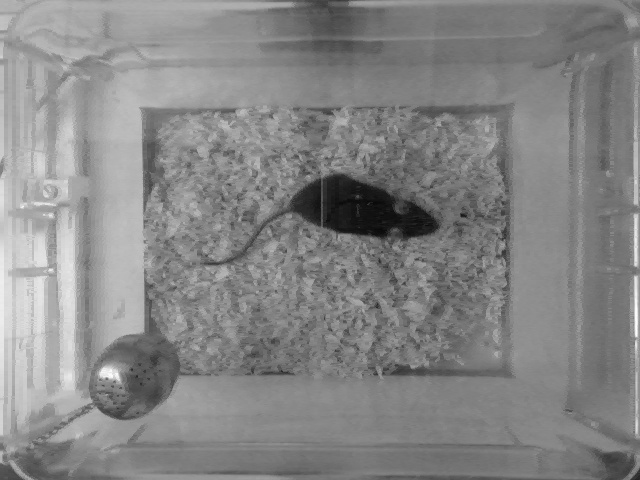mice: (198, 169, 449, 267)
